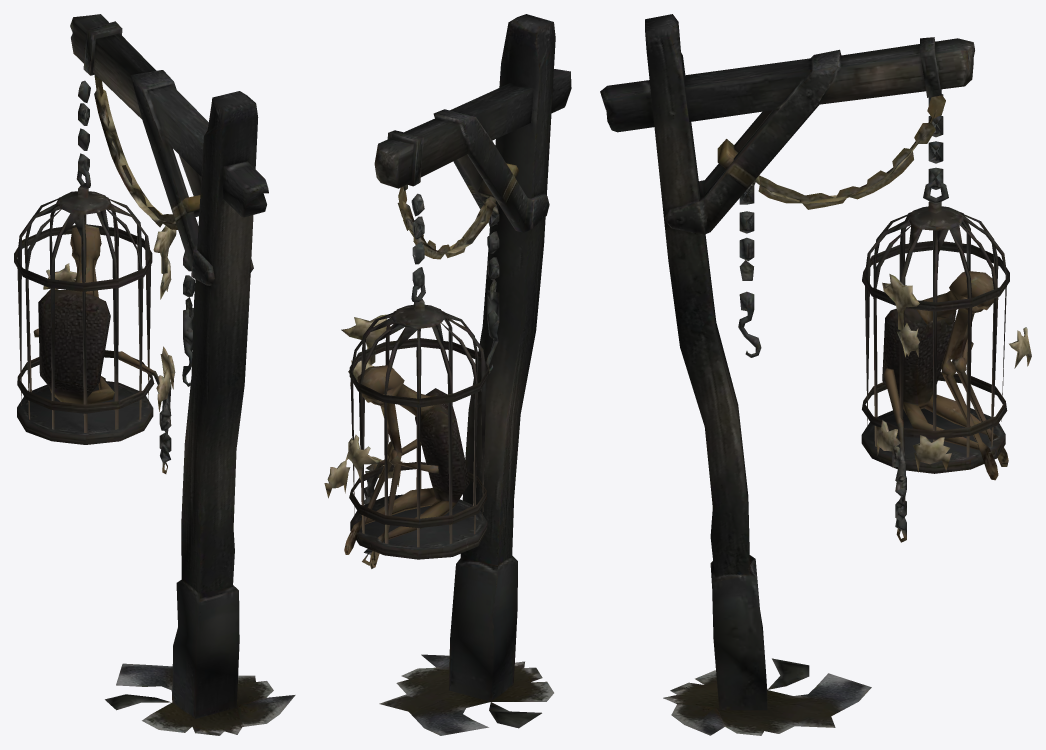
The model's file is gibbet_cage.glb.
3 views of the same model, side by side, from view 1: azimuth 30°, elevation 25°; view 2: azimuth 150°, elevation 25°; view 3: azimuth 270°, elevation 25° (orthographic). The views are drawn at different scales.
Parts seen in each view (by area): view 1: tripo_node_d0ecf56e-c7f9-4acd-96e6-1ab2ccfc95c9; view 2: tripo_node_d0ecf56e-c7f9-4acd-96e6-1ab2ccfc95c9; view 3: tripo_node_d0ecf56e-c7f9-4acd-96e6-1ab2ccfc95c9.
Part boxes in pixels (bbox=[...]): tripo_node_d0ecf56e-c7f9-4acd-96e6-1ab2ccfc95c9: bbox=[14, 14, 295, 735]; tripo_node_d0ecf56e-c7f9-4acd-96e6-1ab2ccfc95c9: bbox=[324, 14, 571, 735]; tripo_node_d0ecf56e-c7f9-4acd-96e6-1ab2ccfc95c9: bbox=[600, 14, 1031, 735].
Bounding box in the file's own units: 0.2715 × 0.998 × 0.5801.
1 material, 1 textured.
